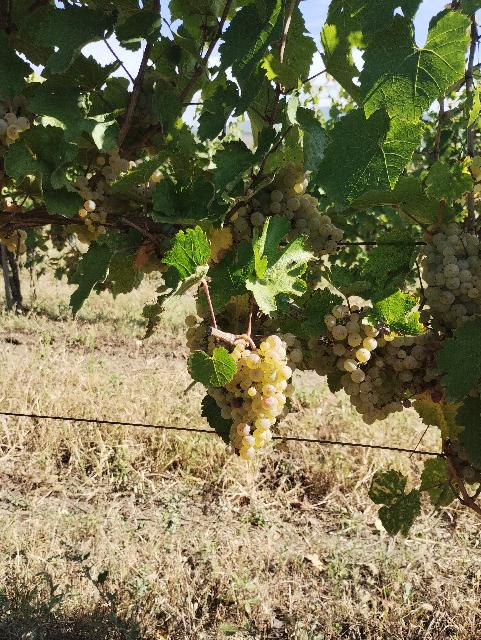grapes: (310, 305, 431, 425), (200, 328, 296, 460), (250, 161, 344, 256), (422, 224, 481, 330)
